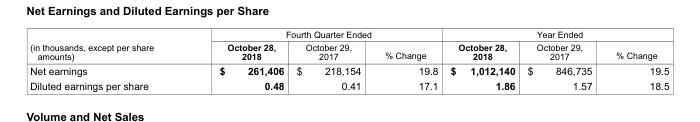table: (29, 29, 668, 90)
table column: (29, 29, 185, 90), (185, 29, 289, 90), (289, 29, 372, 90), (520, 29, 603, 90), (443, 29, 520, 90), (372, 29, 443, 90), (603, 29, 668, 90)
table column header: (29, 29, 668, 62)
table row: (29, 40, 668, 62), (29, 62, 668, 77), (29, 77, 668, 90), (29, 29, 668, 40)
table spanning cell: (29, 29, 185, 62), (185, 29, 443, 40), (443, 29, 668, 40)
